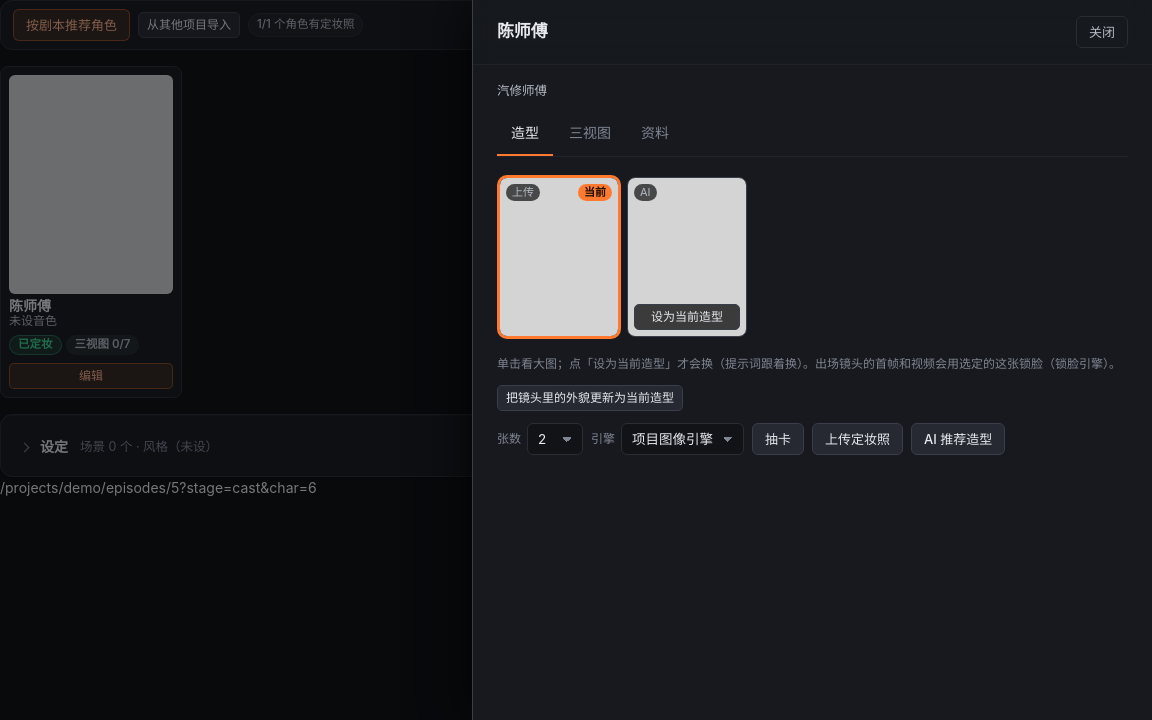
Test case: 角色抽屉 › 没有修改时 Esc 直接关；焦点回到打开前的元素
This screenshot has width=1152, height=720.
Press Escape
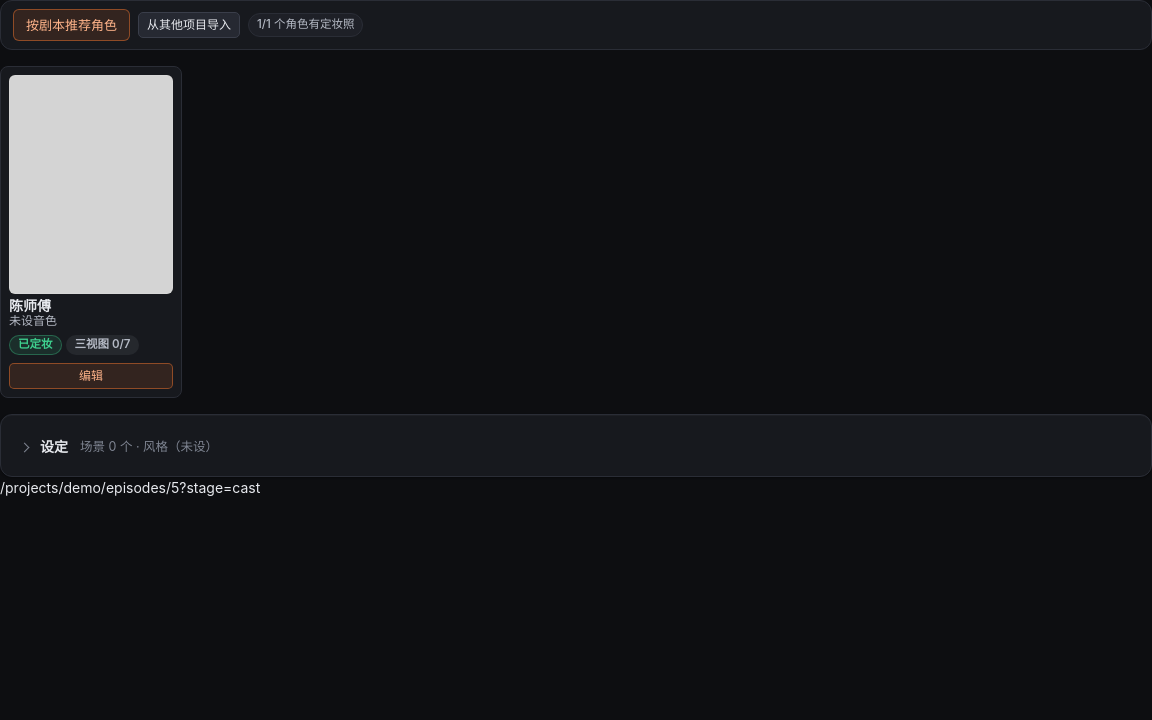
Result: the dialog is gone
Result: the text with test id "location" reads "/projects/demo/episodes/5?stage=cast" at [0,479,260,496]
Click the button with aria-label "编辑 陈师傅" at (91, 376), box [9,363,173,389]
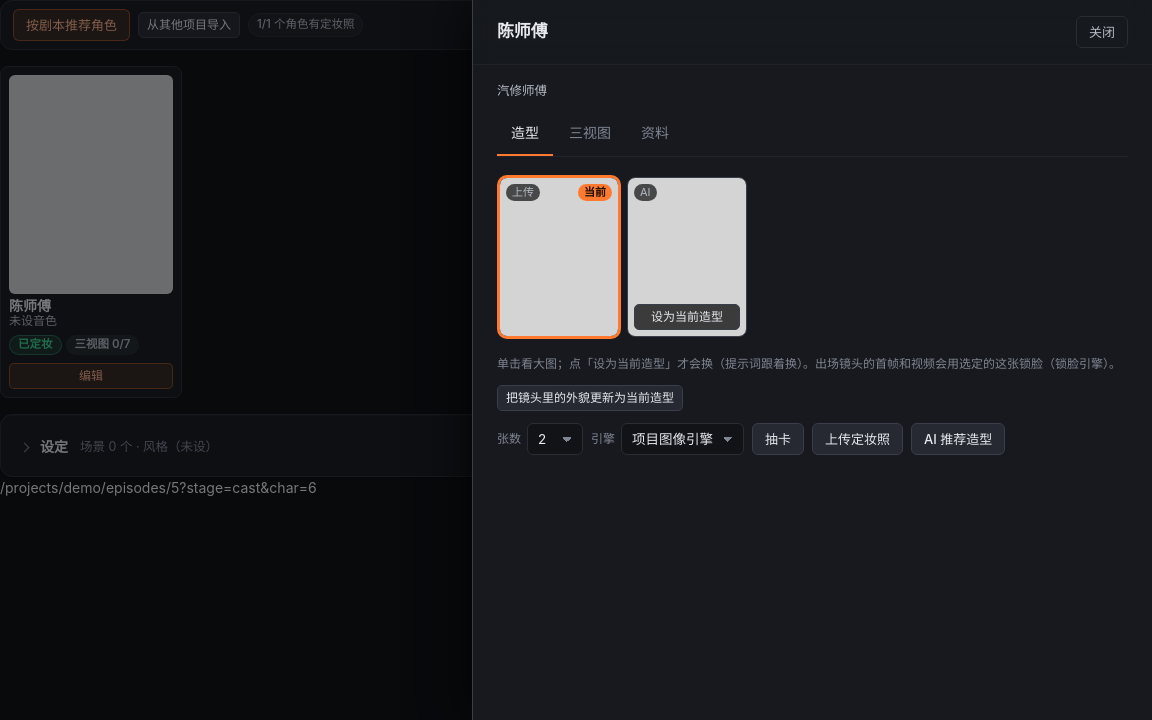
Click the button "关闭" at (1102, 32), box [1076,16,1128,48]
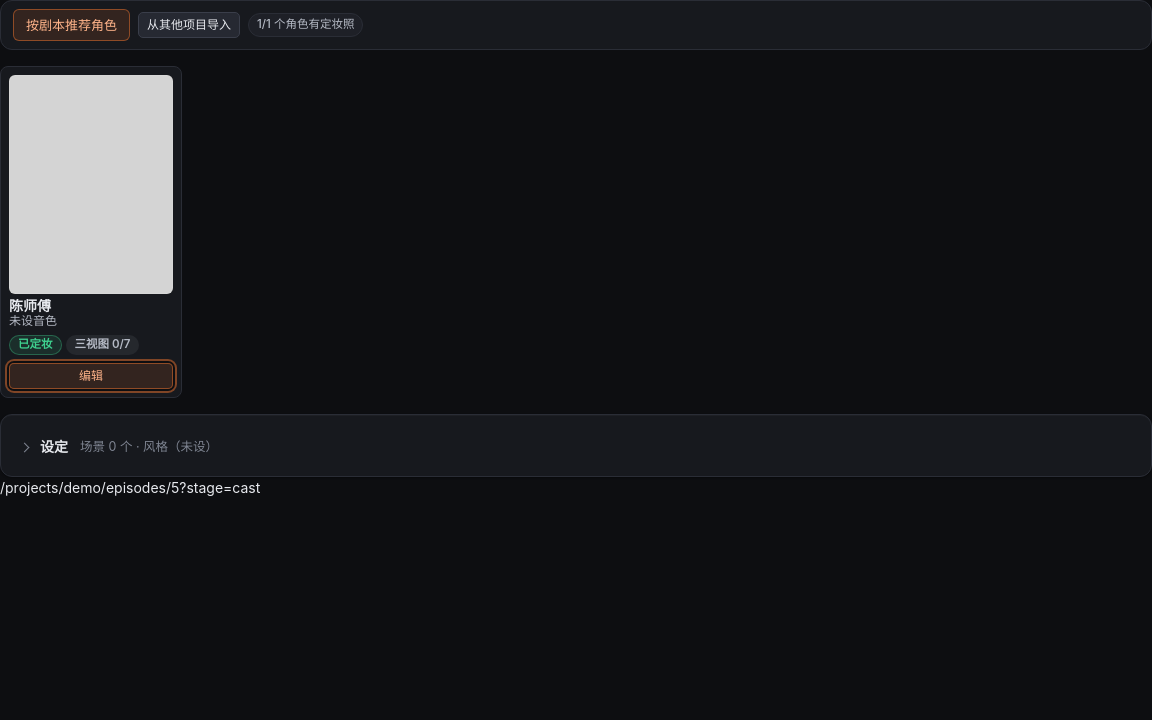
Expected: the button with aria-label "编辑 陈师傅" reads "编辑", [9,363,173,389]
Result: the dialog is gone
